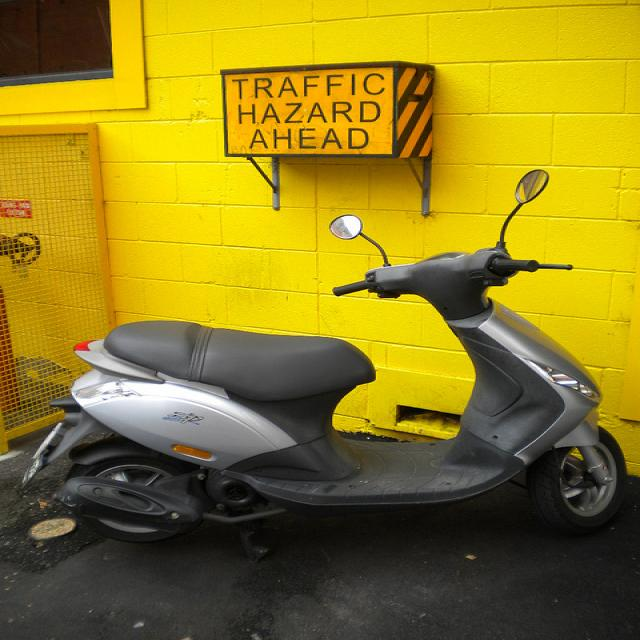motor: (20, 169, 628, 543)
